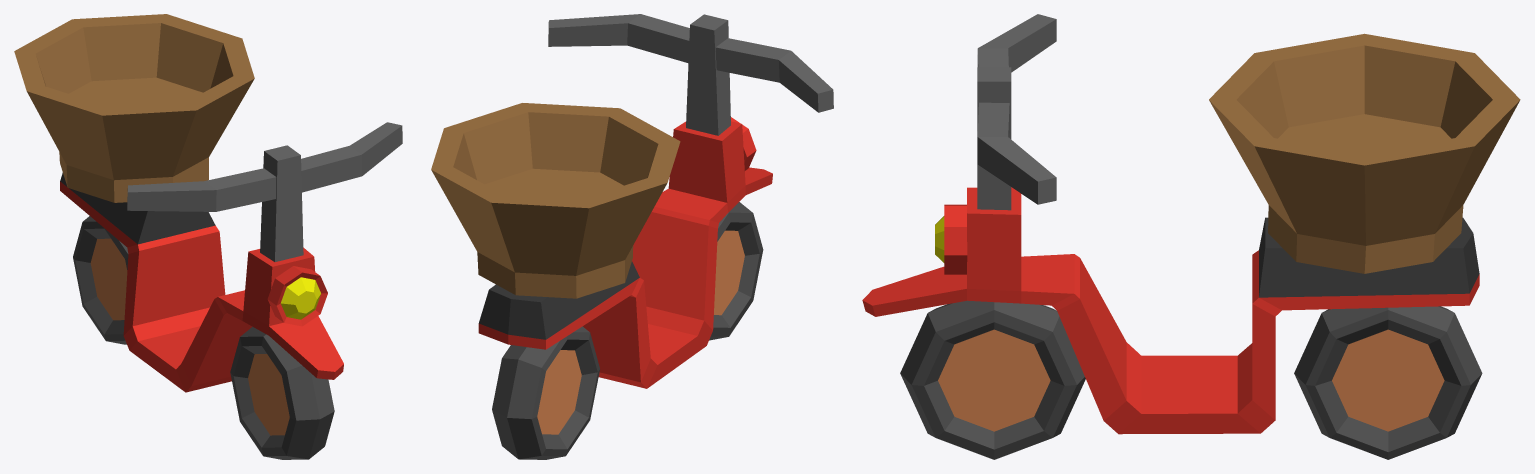
File: scooter.glb
3 renders of one model, left to right at view 1: azimuth 30°, elevation 25°; view 2: azimuth 150°, elevation 25°; view 3: azimuth 270°, elevation 25°, orthographic. The views are drawn at different scales.
Parts seen in each view (by area): view 1: Tires; view 2: Tires; view 3: Tires.
Boxes of the visible parts, x1=… form: Tires: x1=14, y1=14, x2=402, y2=459; Tires: x1=431, y1=14, x2=833, y2=459; Tires: x1=862, y1=14, x2=1520, y2=459.
Size of the model in its own units: 2.2 by 2.34 by 3.63.
